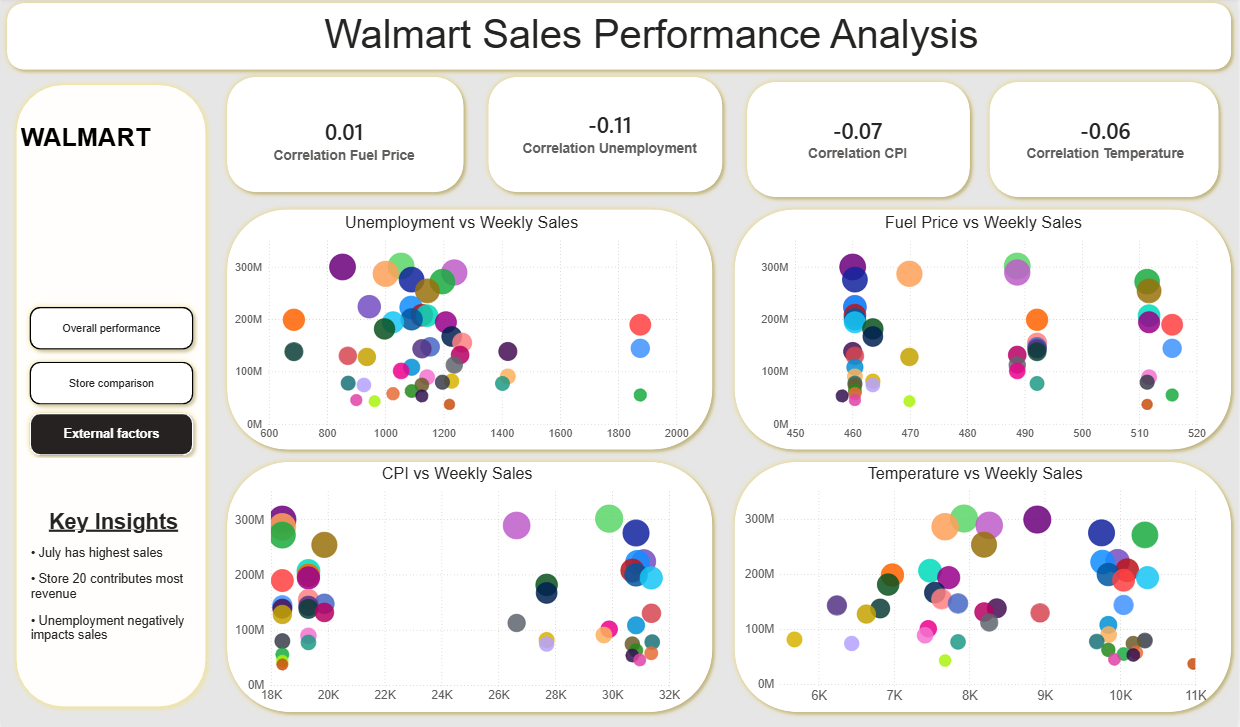

The dashboard page shown, as its layout file describes it:
{"tool":"powerbi","page":{"name":"External factors","canvas":[1820,1080],"ordinal":2},"visuals":[{"type":"shape","box":[0,0,1820.3,116],"z":0},{"type":"textbox","box":[18.4,16.6,1783.4,84.7],"z":1000},{"type":"shape","box":[323.9,108.6,366.3,187.7],"z":2000},{"type":"shape","box":[1446.6,116,355.2,187.7],"z":3000},{"type":"shape","box":[1089.6,116,346,187.7],"z":4000},{"type":"shape","box":[708.6,108.6,362.6,187.7],"z":5000},{"type":"shape","box":[323.9,303.7,732.5,371.8],"z":6000},{"type":"shape","box":[1071.2,675.5,749.1,386.5],"z":7000},{"type":"shape","box":[1071.2,303.7,749.1,371.8],"z":8000},{"type":"shape","box":[323.9,675.5,732.5,386.5],"z":9000},{"type":"cardVisual","fields":{"Data":["walmart.Correlation Unemployment"]},"box":[736.2,119.6,320.2,162],"z":10000},{"type":"cardVisual","fields":{"Data":["walmart.Correlation CPI"]},"box":[1122.7,134.4,277.9,147.2],"z":11000},{"type":"cardVisual","fields":{"Data":["walmart.Correlation Fuel Price"]},"box":[338.7,132.5,333.1,156.4],"z":12000},{"type":"cardVisual","fields":{"Data":["walmart.Correlation Temperature"]},"box":[1472.4,138,307.4,139.9],"z":13000},{"type":"scatterChart","title":"CPI vs Weekly Sales","fields":{"X":["Sum(walmart.cpi)"],"Series":["walmart.store"],"Y":["Sum(walmart.weekly_sales)"]},"box":[338.7,688.3,666.3,358.9],"z":14000},{"type":"scatterChart","title":"Unemployment vs Weekly Sales","fields":{"X":["Sum(walmart.unemployment)"],"Y":["Sum(walmart.weekly_sales)"],"Series":["walmart.store"]},"box":[338.7,318.4,679.1,342.3],"z":15000},{"type":"scatterChart","title":"Temperature vs Weekly Sales","fields":{"Series":["walmart.store"],"Y":["Sum(walmart.weekly_sales)"],"X":["Sum(walmart.temperature)"]},"box":[1089.6,688.3,690.2,358.9],"z":16000},{"type":"scatterChart","title":"Fuel Price vs Weekly Sales","fields":{"X":["Sum(walmart.fuel_price)"],"Series":["walmart.store"],"Y":["Sum(walmart.weekly_sales)"]},"box":[1113.5,318.4,666.3,342.3],"z":17000},{"type":"shape","box":[12.9,119.6,298.2,935],"z":18000},{"type":"pageNavigator","box":[33.1,447.2,259.5,231.9],"z":18001},{"type":"textbox","box":[38.7,749.1,254,270.6],"z":18002},{"type":"textbox","box":[23.9,180.4,300,92],"z":18003}]}

Visuals, with their boxes in screenshot pixels (x1, y1, x2, y2), scaled from the page's 1820x1080 canvas onto the 1240x727 screenshot:
shape: locate(0, 0, 1239, 78)
textbox: locate(13, 11, 1228, 68)
shape: locate(221, 73, 470, 199)
shape: locate(986, 78, 1228, 204)
shape: locate(742, 78, 978, 204)
shape: locate(483, 73, 730, 199)
shape: locate(221, 204, 720, 455)
shape: locate(730, 455, 1239, 715)
shape: locate(730, 204, 1239, 455)
shape: locate(221, 455, 720, 715)
cardVisual - walmart.Correlation Unemployment: locate(502, 81, 720, 190)
cardVisual - walmart.Correlation CPI: locate(765, 90, 954, 190)
cardVisual - walmart.Correlation Fuel Price: locate(231, 89, 458, 194)
cardVisual - walmart.Correlation Temperature: locate(1003, 93, 1213, 187)
"CPI vs Weekly Sales" scatterChart: locate(231, 463, 685, 705)
"Unemployment vs Weekly Sales" scatterChart: locate(231, 214, 693, 445)
"Temperature vs Weekly Sales" scatterChart: locate(742, 463, 1213, 705)
"Fuel Price vs Weekly Sales" scatterChart: locate(759, 214, 1213, 445)
shape: locate(9, 81, 212, 710)
pageNavigator: locate(23, 301, 199, 457)
textbox: locate(26, 504, 199, 686)
textbox: locate(16, 121, 221, 183)
